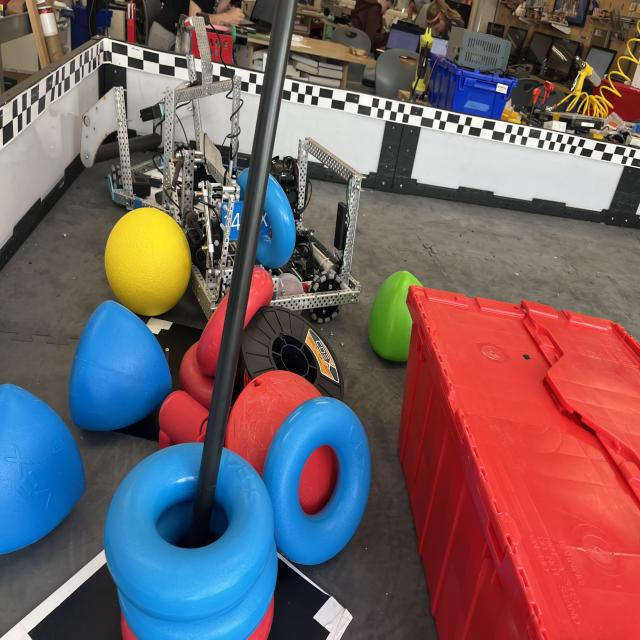Blue-Ring: (105, 443, 274, 620), (262, 397, 371, 565), (119, 550, 278, 640), (236, 162, 296, 268)
Red-Ring: (196, 268, 274, 377)
